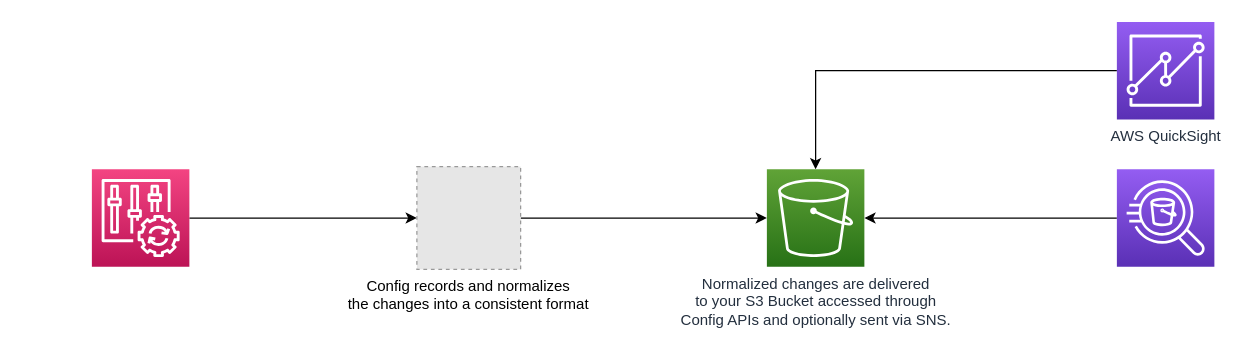
Some shapes in this 1243 by 351 pixel diagram are drawn without their labels. Grey dashed boxes stand in for pictures. The centre of each missing label's shape, as x and y in pixels:
"Athena" belongs at (1165,217).
"AWS Config - Configuration change occurs in your AWS Resource" belongs at (140,217).
